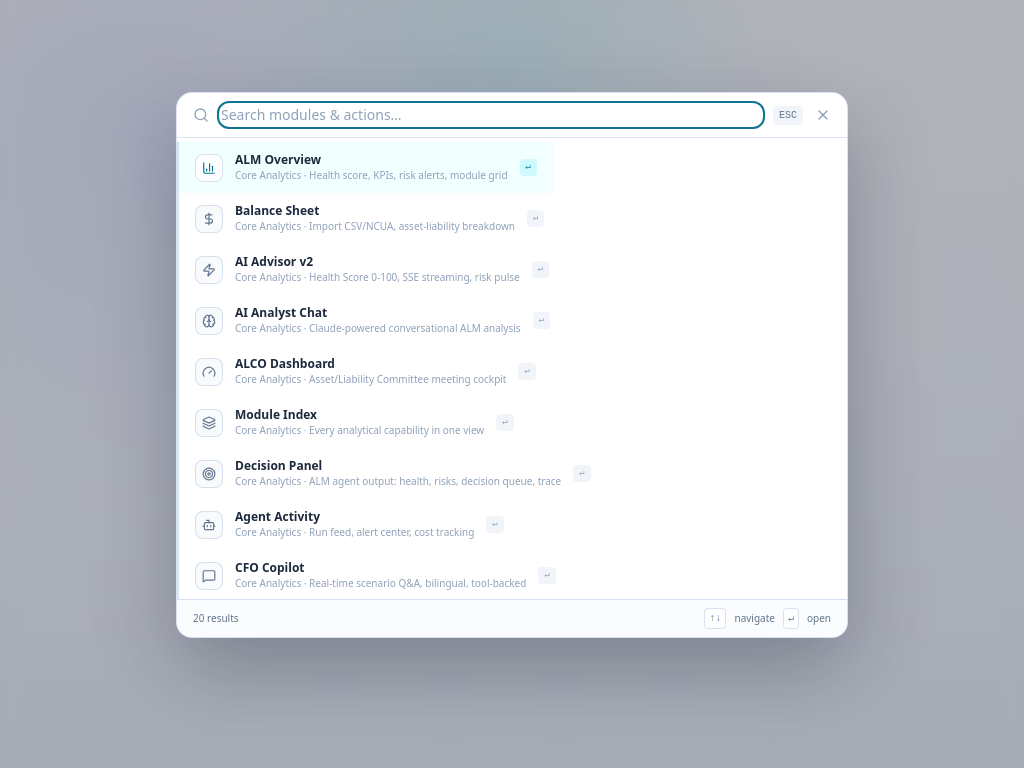
CommandPalette — search › shows an empty-state message for unmatched queries
Type "xyzxyzxyzxyz" into the dropdown. click: (491, 115)
box: [221, 105, 761, 125]
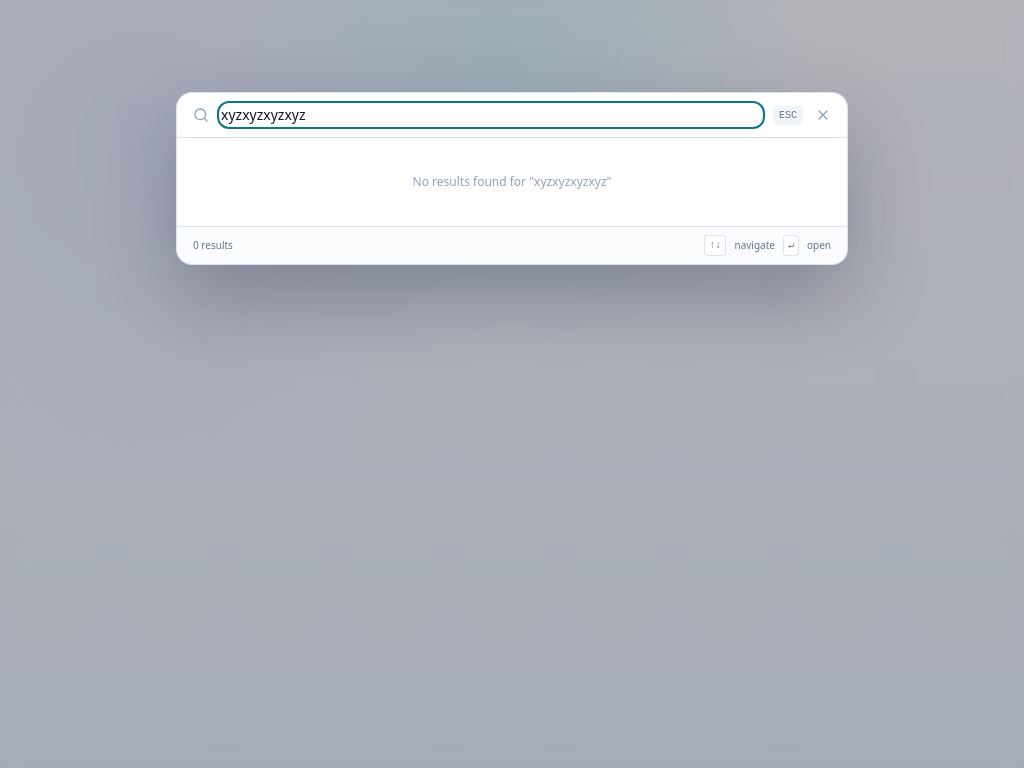
Result: the text "No results found for \"xyzxyzxyzxyz\"" is shown at [413, 173, 612, 190]
Result: no options are shown
